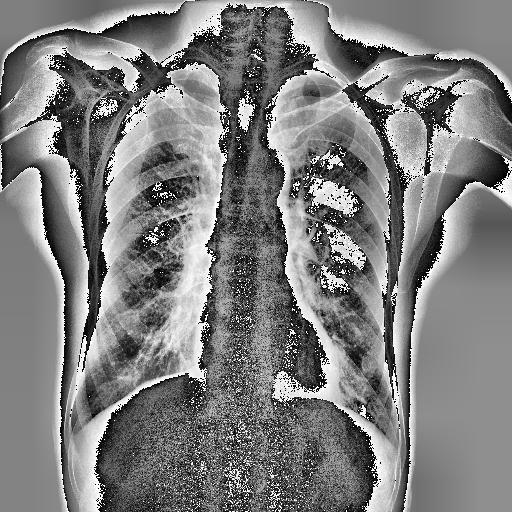0- Aortic enlargement: (247, 148, 291, 194), (254, 146, 290, 194)
11- Pleural thickening: (162, 58, 220, 75), (166, 56, 211, 72)
5- ILD: (88, 86, 216, 400), (296, 104, 392, 411)
7- Lung Opacity: (360, 352, 378, 374)
